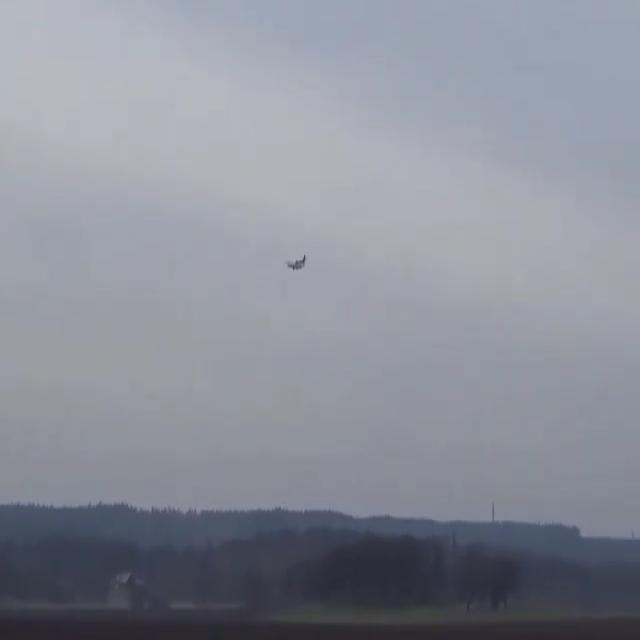AirPlane: (282, 251, 318, 281)
